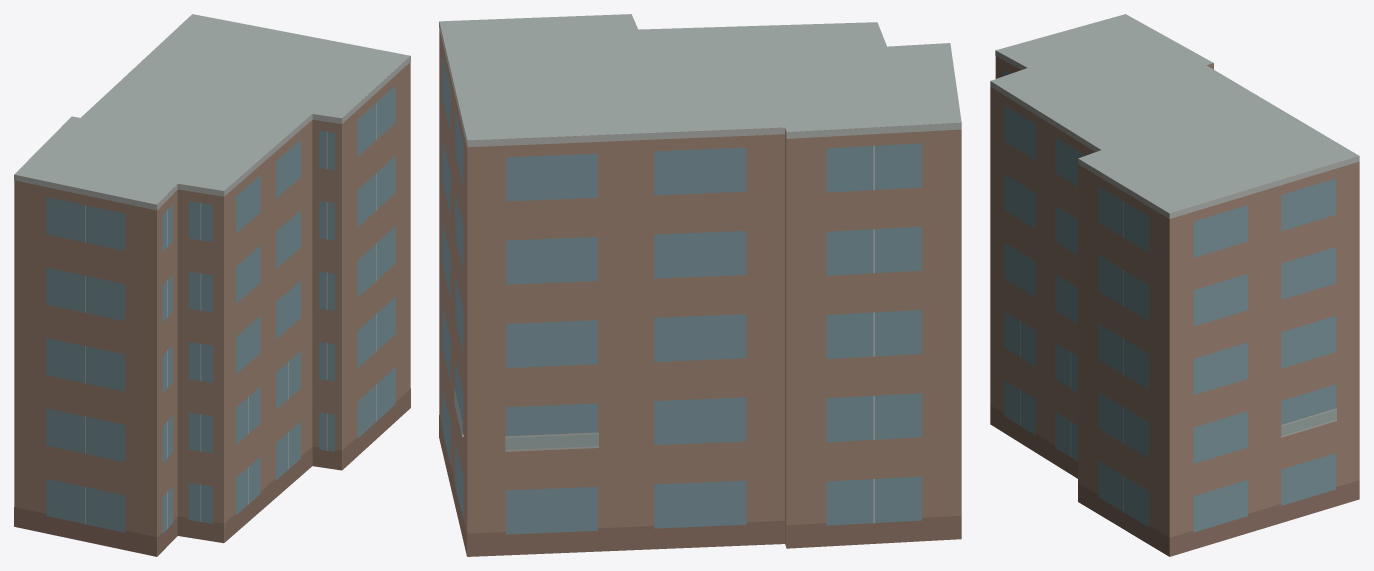
File: survey-upis-32933244.glb
3 renders of one model, left to right at view 1: azimuth 30°, elevation 25°; view 2: azimuth 150°, elevation 25°; view 3: azimuth 270°, elevation 25°, orthographic. The views are drawn at different scales.
Parts seen in each view (by area): view 1: survey-upis-32933244.tmp; view 2: survey-upis-32933244.tmp; view 3: survey-upis-32933244.tmp.
Boxes of the visible parts, bbox=[...] form: survey-upis-32933244.tmp: bbox=[14, 14, 410, 556]; survey-upis-32933244.tmp: bbox=[439, 14, 961, 556]; survey-upis-32933244.tmp: bbox=[990, 14, 1359, 556].
Size of the model in its own units: 18.7 by 15 by 14.63.
